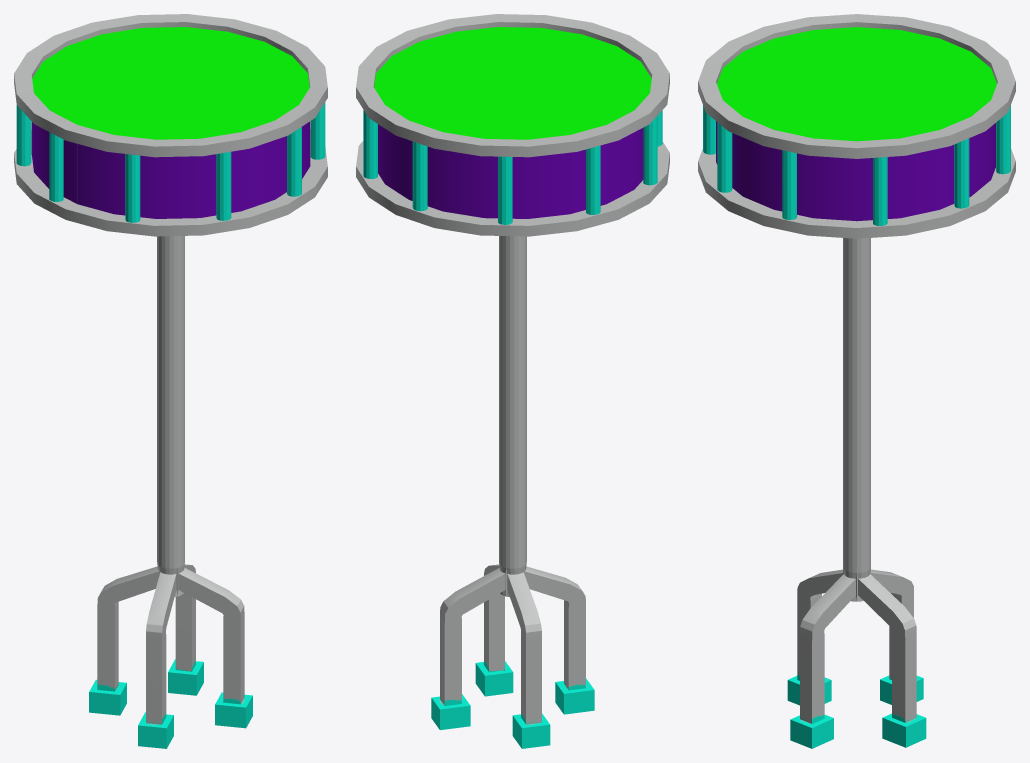
The model's file is TOM_2.fbx.
3 views of the same model, side by side, from view 1: azimuth 30°, elevation 25°; view 2: azimuth 150°, elevation 25°; view 3: azimuth 270°, elevation 25° (orthographic).
Visible parts, largest first — view 1: pCylinder33; view 2: pCylinder33; view 3: pCylinder33.
Part boxes in pixels (x1=…): pCylinder33: x1=14, y1=14, x2=327, y2=748; pCylinder33: x1=356, y1=14, x2=669, y2=748; pCylinder33: x1=698, y1=14, x2=1015, y2=748.
Size of the model in its own units: 3.85 by 8.55 by 3.85.
Materials: 2 (2 with a texture image).
